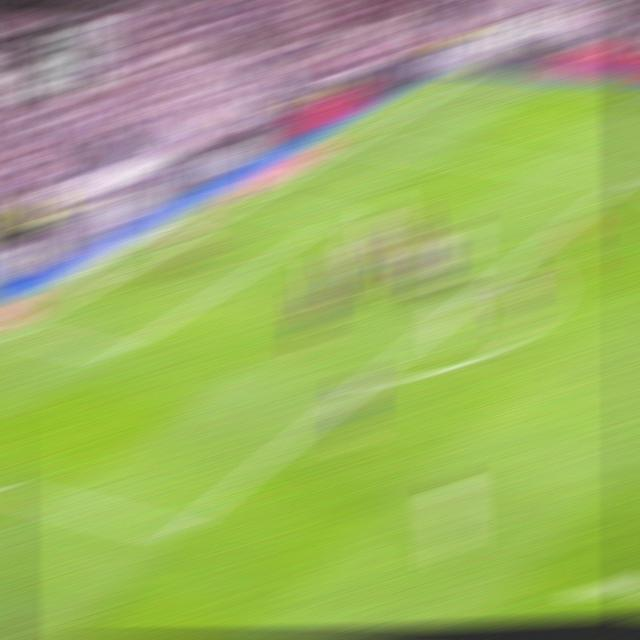bigarea_bottom_inner: (161, 518, 196, 546)
bigarea_top_inner: (612, 167, 640, 184)
bigarea_top_outter: (340, 136, 370, 146)
bottom_arc_area_intersection: (350, 370, 383, 391)
corner: (448, 77, 478, 83)
smallarea_bottom_inner: (100, 343, 132, 364)
smallarea_bottom_outter: (2, 328, 31, 338)
smallarea_top_inner: (319, 209, 349, 225)
top_arc_area_intersection: (504, 250, 535, 269)
